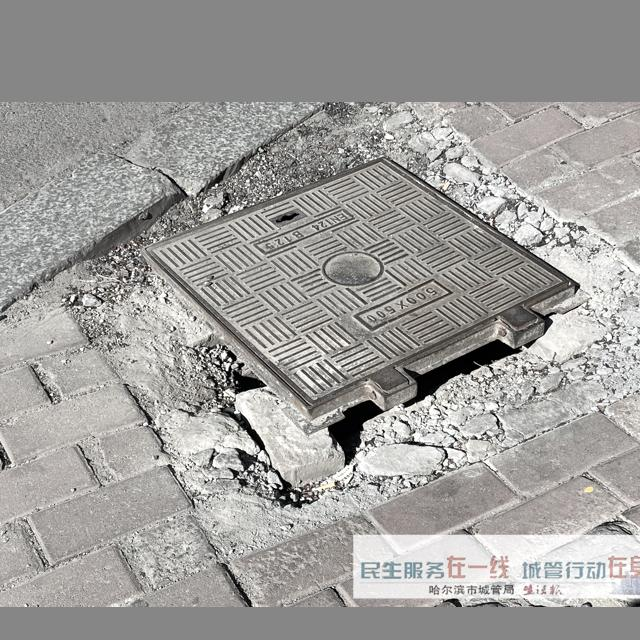circle: (62, 153, 640, 505)
